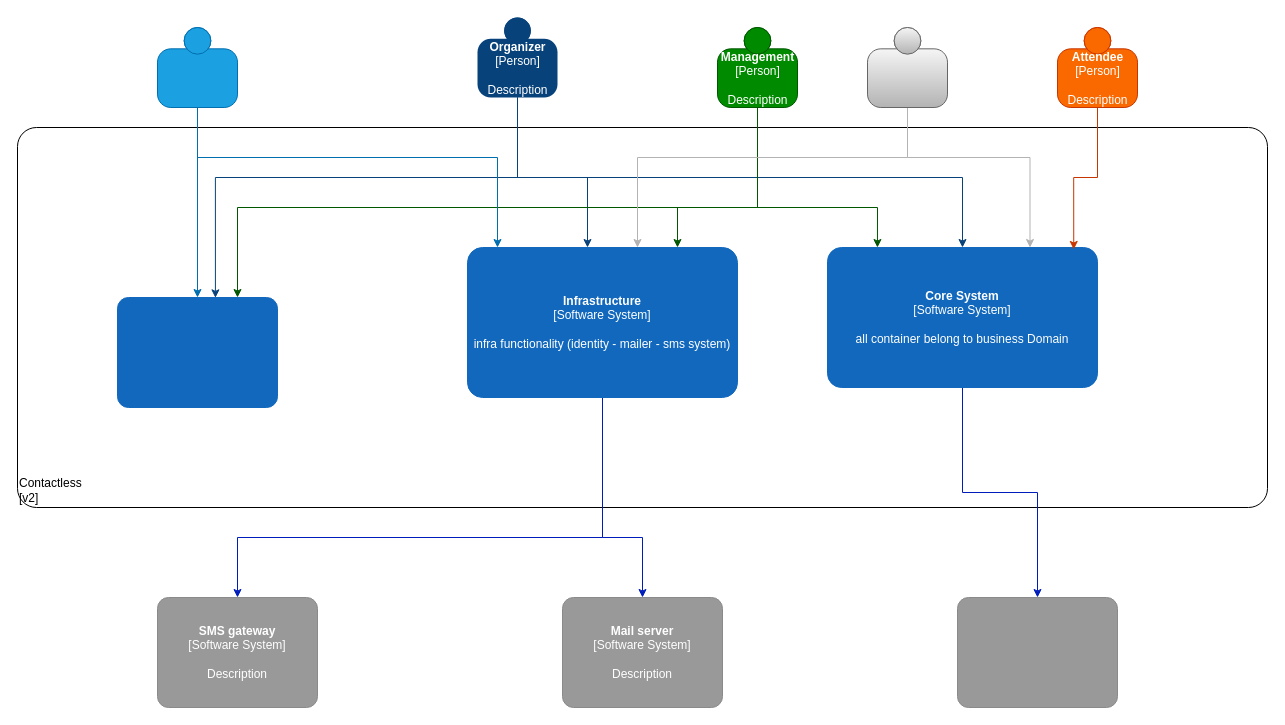
The diagram is 1285 pixels wide and 725 high, and some of its shapes have lost their labels. Each missing label, with the centre of its shape:
Crew [Person] Description: point (907, 67)
Freelancer [Person] Description: point (197, 67)
Marketplace [Software System] the freelancer system to recruit crew: point (197, 352)
Payment Gateway [Software System] Description: point (1037, 652)
